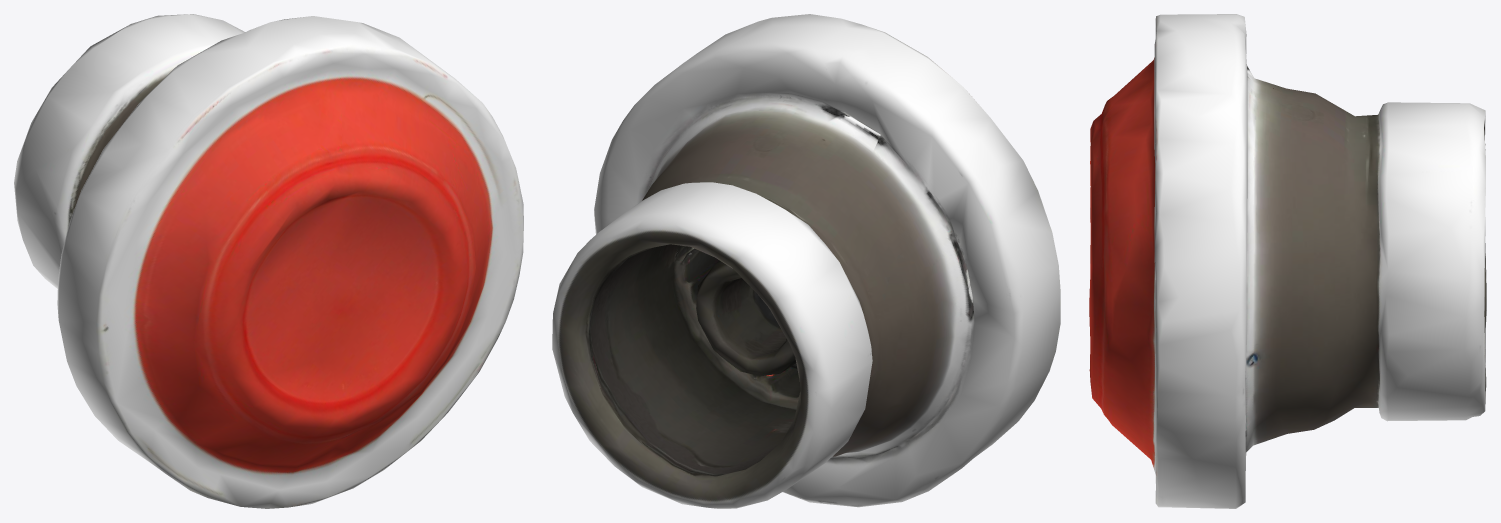
3 views of the same model, side by side, from view 1: azimuth 30°, elevation 25°; view 2: azimuth 150°, elevation 25°; view 3: azimuth 270°, elevation 25° (orthographic).
Visible parts, largest first — view 1: Mesh1.0; view 2: Mesh1.0; view 3: Mesh1.0.
Boxes of the visible parts, x1=… form: Mesh1.0: x1=14, y1=14, x2=523, y2=508; Mesh1.0: x1=552, y1=14, x2=1060, y2=508; Mesh1.0: x1=1089, y1=14, x2=1486, y2=508.
Bounding box in the file's own units: 175 × 178 × 141.
1 material, 1 textured.
